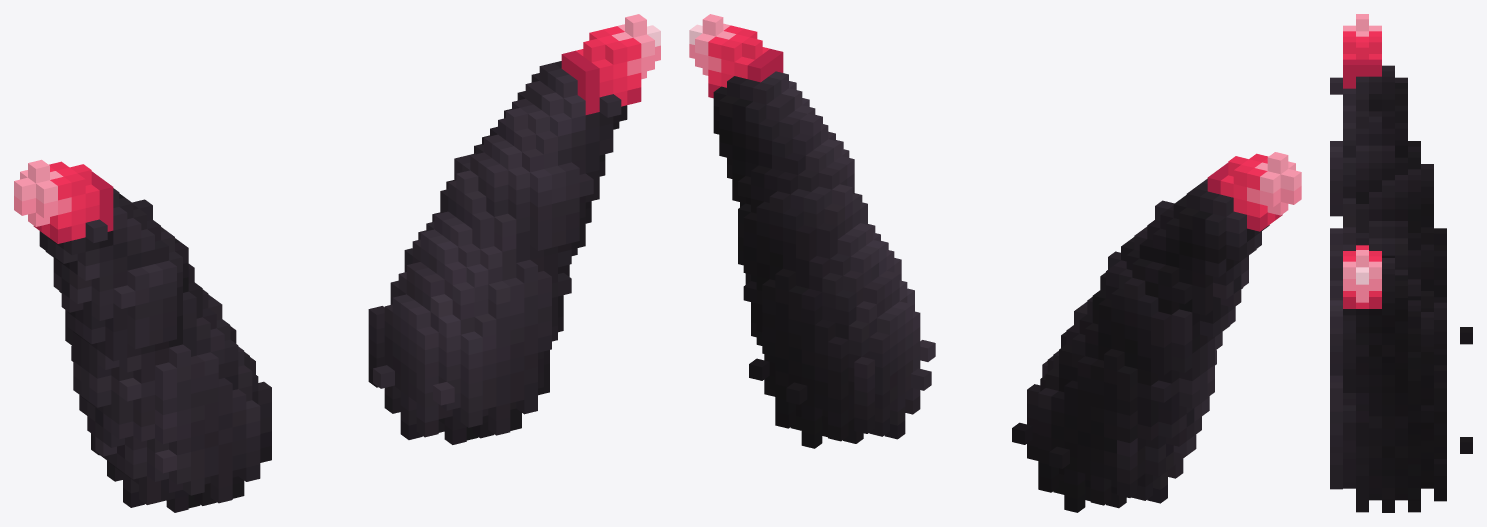
Rendered from owner_demon_horns_hat.glb.
3 views of the same model, side by side, from view 1: azimuth 30°, elevation 25°; view 2: azimuth 150°, elevation 25°; view 3: azimuth 270°, elevation 25° (orthographic). The views are drawn at different scales.
Parts seen in each view (by area): view 1: Owner Demon Horns; view 2: Owner Demon Horns; view 3: Owner Demon Horns.
Boxes of the visible parts, x1,y1,x2,y2 form: Owner Demon Horns: [14, 14, 660, 512]; Owner Demon Horns: [689, 14, 1301, 512]; Owner Demon Horns: [1330, 14, 1472, 512].
Size of the model in its own units: 0.7188 by 0.4219 by 0.1719.
Materials: 1 (1 with a texture image).
